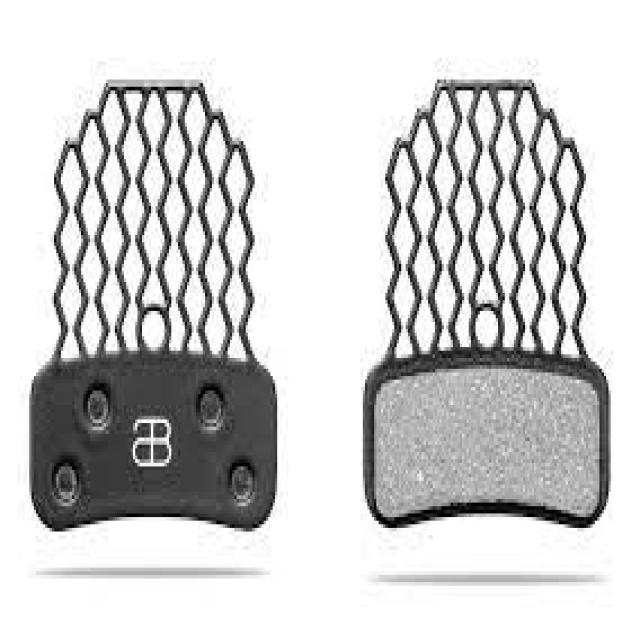brake_pad: (23, 58, 283, 545), (357, 66, 616, 535)
